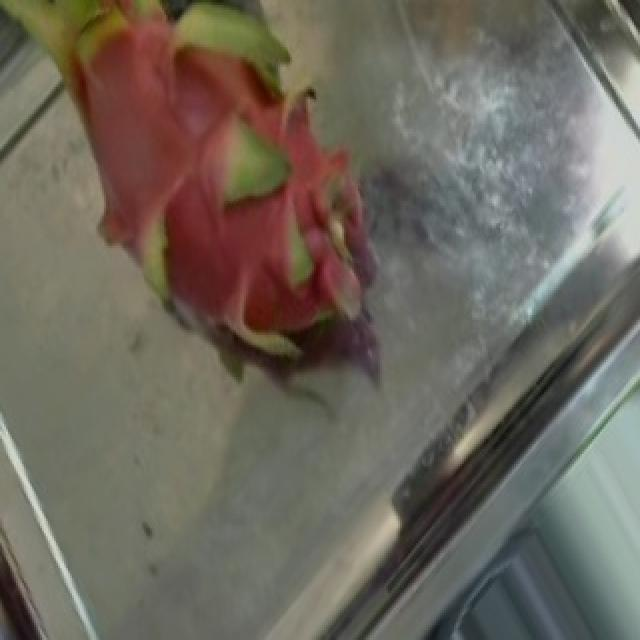fruit: (0, 0, 416, 409)
